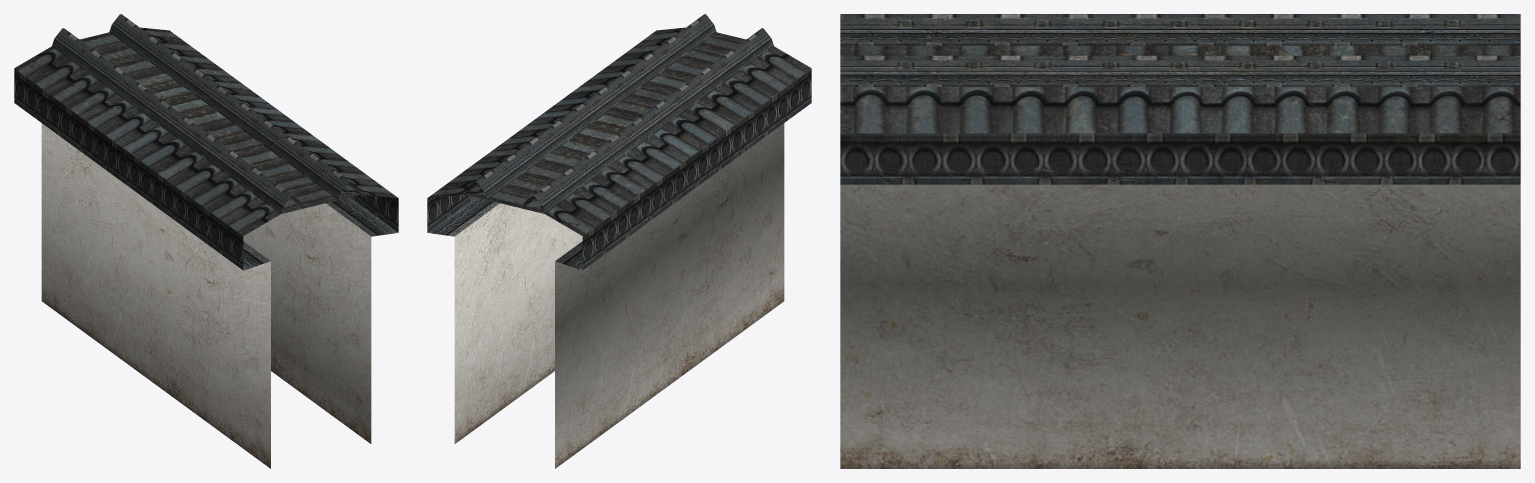
Rendered from wall_middle_01.fbx.
The picture shows the model from 3 angles, left to right: view 1: azimuth 30°, elevation 25°; view 2: azimuth 150°, elevation 25°; view 3: azimuth 270°, elevation 25°; orthographic projection. The views are drawn at different scales.
Parts seen in each view (by area): view 1: wall_middle_01; view 2: wall_middle_01; view 3: wall_middle_01.
Boxes of the visible parts, bbox=[...] form: wall_middle_01: bbox=[14, 14, 398, 468]; wall_middle_01: bbox=[427, 14, 811, 468]; wall_middle_01: bbox=[840, 14, 1520, 468].
Bounding box in the file's own units: 61.59 × 101 × 157.
